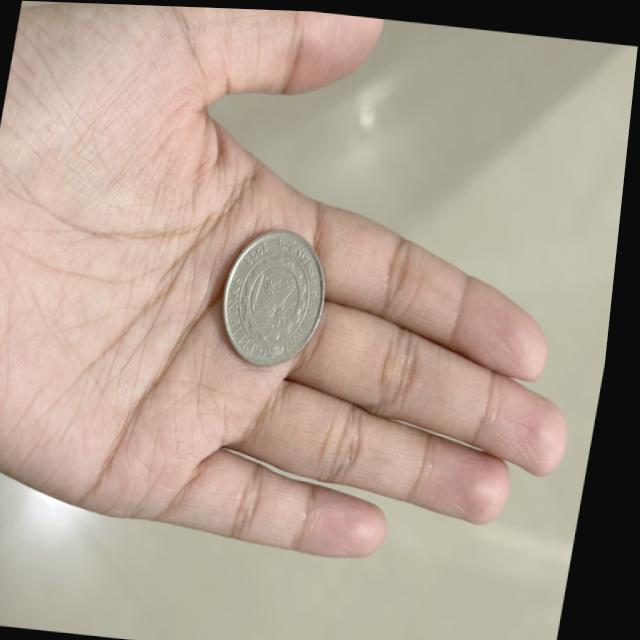1_Old_Back: (237, 249, 320, 345)
